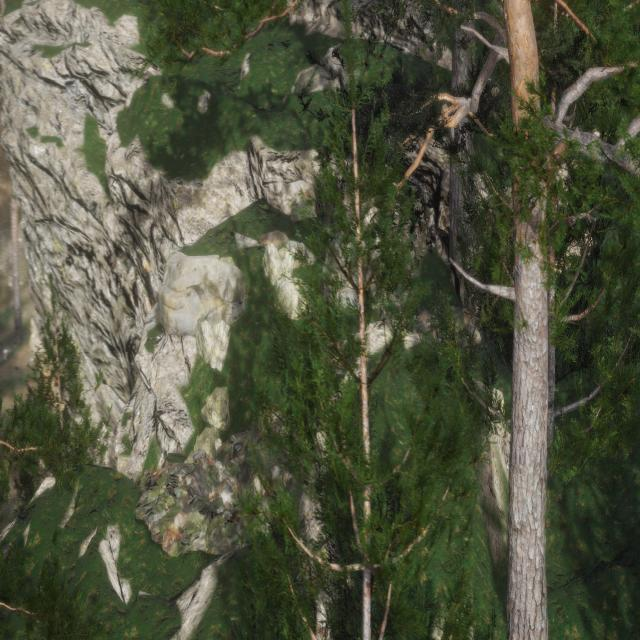Human: (293, 318, 314, 417)
